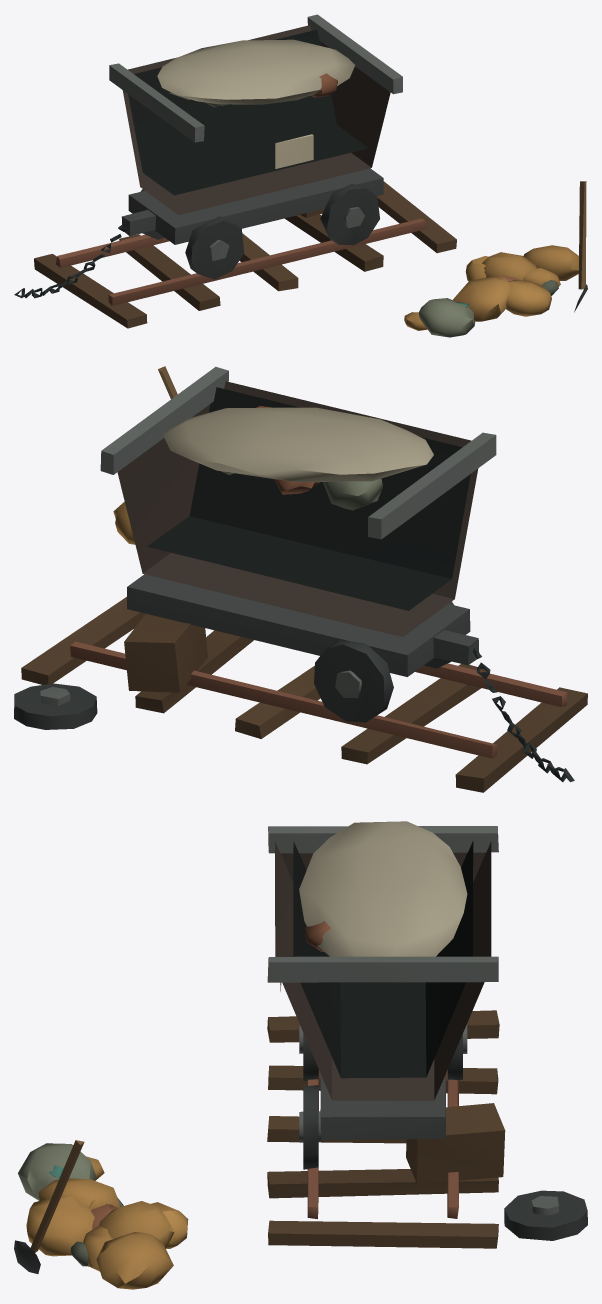
Rendered from ore_car_b_lod2.glb.
3 views of the same model, one above another, from view 1: azimuth 30°, elevation 25°; view 2: azimuth 150°, elevation 25°; view 3: azimuth 270°, elevation 25° (orthographic). The views are drawn at different scales.
Parts seen in each view (by area): view 1: Surface.001; view 2: Surface.001; view 3: Surface.001.
Boxes of the visible parts, box(x1,y1,x2,y2) form: Surface.001: box(14, 14, 587, 337); Surface.001: box(14, 366, 587, 792); Surface.001: box(14, 821, 587, 1289).
Size of the model in its own units: 6.04 by 2.65 by 4.93.
